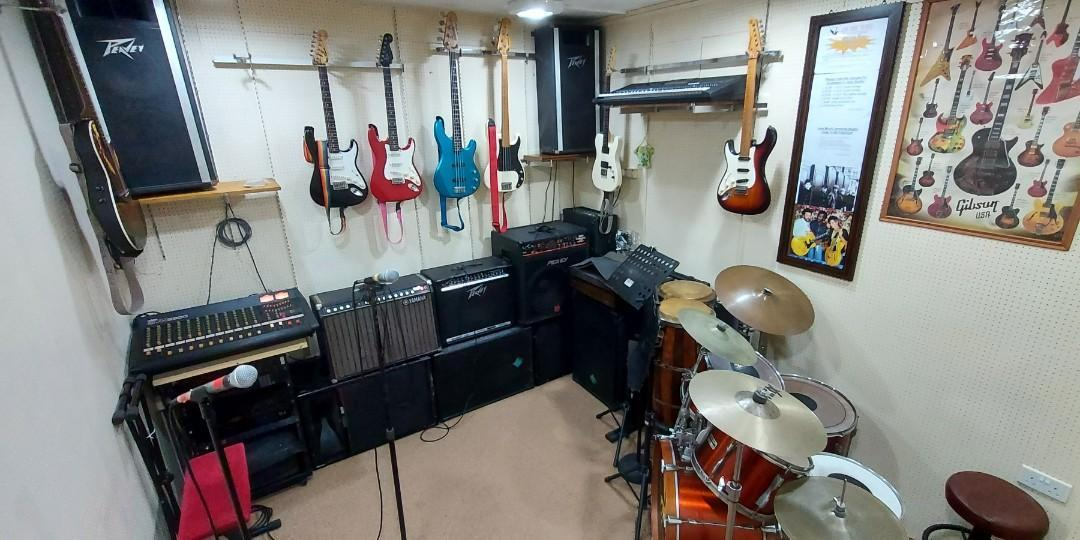acousticguitar: (955, 23, 1032, 203), (719, 12, 775, 222), (305, 31, 367, 214), (429, 9, 482, 202), (367, 34, 419, 213), (488, 17, 527, 199), (592, 42, 621, 197)
